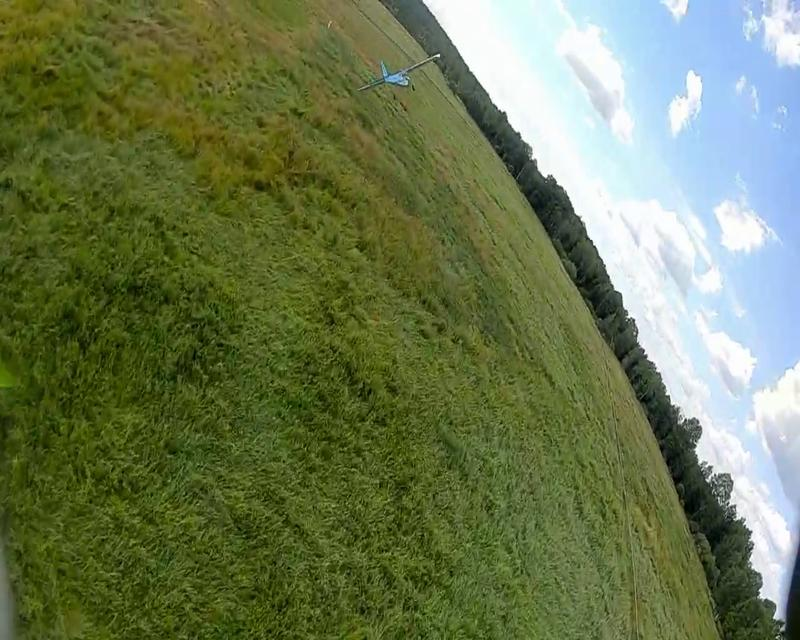UAV: (356, 52, 441, 100)
